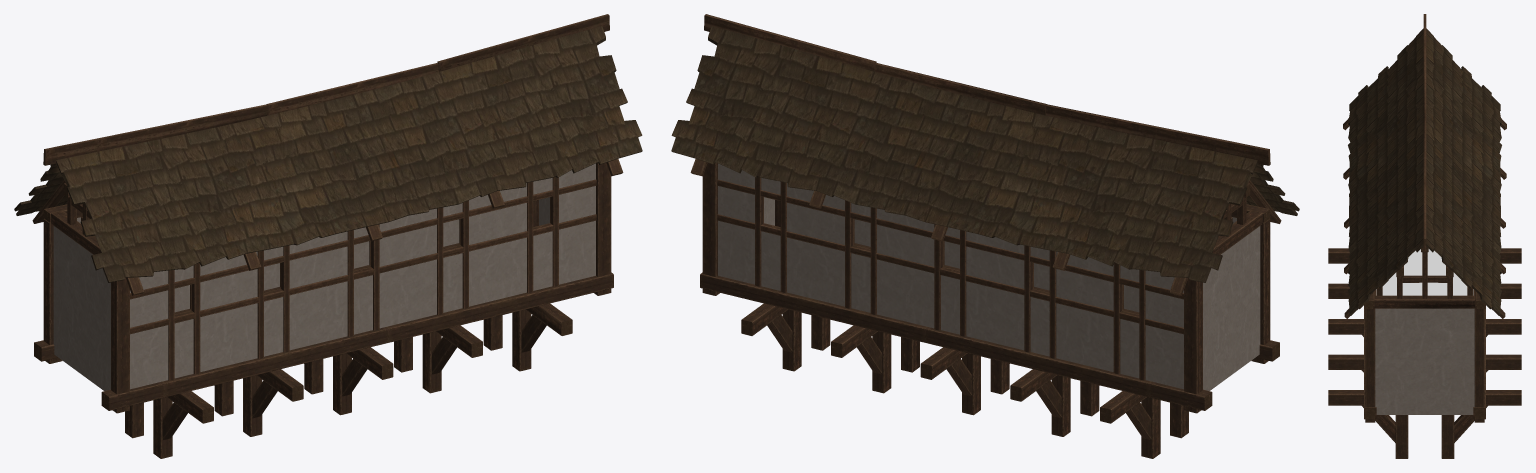
Rendered from Building1c.glb.
3 views of the same model, side by side, from view 1: azimuth 30°, elevation 25°; view 2: azimuth 150°, elevation 25°; view 3: azimuth 270°, elevation 25° (orthographic). The views are drawn at different scales.
Parts seen in each view (by area): view 1: roof, beams00, wall1; view 2: roof, beams00, wall1; view 3: roof, beams00, wall1, floor2.
Boxes of the visible parts, box(x1,y1,x2,y2) form: roof: box(14, 26, 642, 282); beams00: box(32, 14, 623, 458); wall1: box(53, 163, 595, 390); roof: box(671, 26, 1299, 282); beams00: box(690, 14, 1281, 458); wall1: box(718, 163, 1260, 390); roof: box(1348, 28, 1501, 315); beams00: box(1328, 14, 1521, 458); wall1: box(1375, 308, 1474, 414); floor2: box(1376, 249, 1473, 295).
Bounding box in the file's own units: 12.6 × 6.82 × 4.6.
3 materials, 3 textured.
